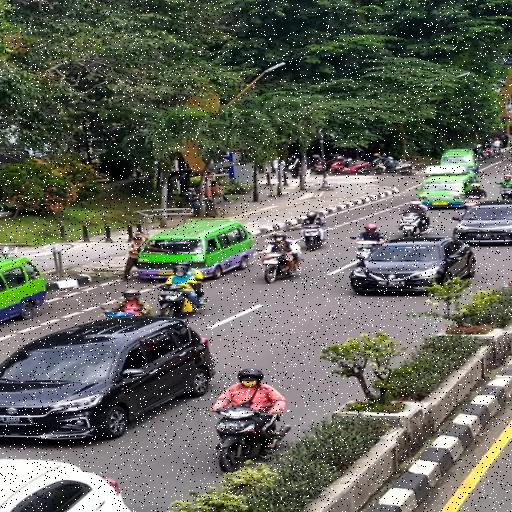Helmet: (236, 367, 268, 394), (270, 232, 286, 245), (124, 290, 142, 301), (174, 266, 186, 278), (410, 201, 422, 212), (305, 209, 315, 222), (468, 182, 480, 192), (366, 224, 376, 234)
Motor: (210, 404, 282, 462), (264, 252, 296, 286), (157, 281, 187, 317), (399, 213, 426, 237), (300, 225, 324, 249)
